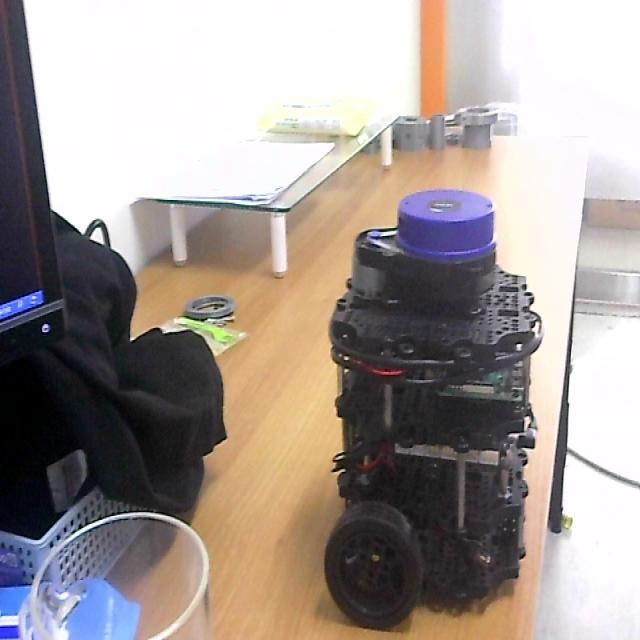turtle: (322, 186, 544, 632)
